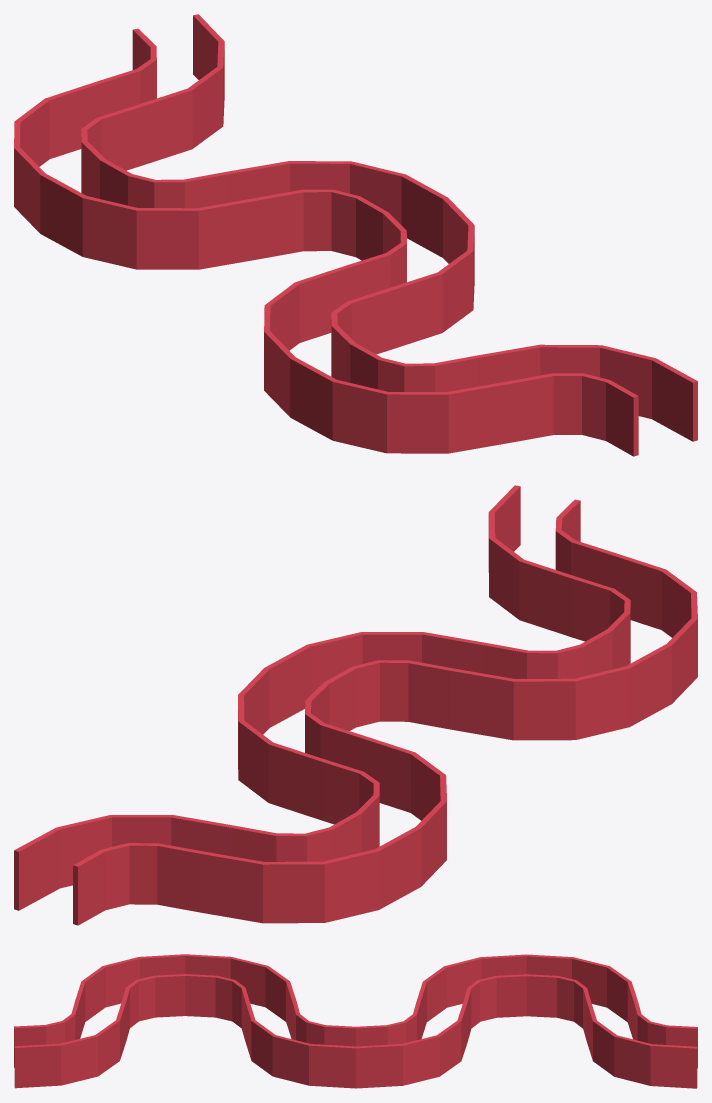
File: Scurve_collision.fbx
The picture shows the model from 3 angles, top to bottom: view 1: azimuth 30°, elevation 25°; view 2: azimuth 150°, elevation 25°; view 3: azimuth 270°, elevation 25°; orthographic projection. The views are drawn at different scales.
Visible parts, largest first — view 1: Scurve_collision; view 2: Scurve_collision; view 3: Scurve_collision.
Boxes of the visible parts, x1,y1,x2,y2 form: Scurve_collision: [14, 14, 697, 456]; Scurve_collision: [14, 485, 697, 925]; Scurve_collision: [14, 954, 697, 1088].
Bounding box in the file's own units: 5228 × 1037 × 16010.
